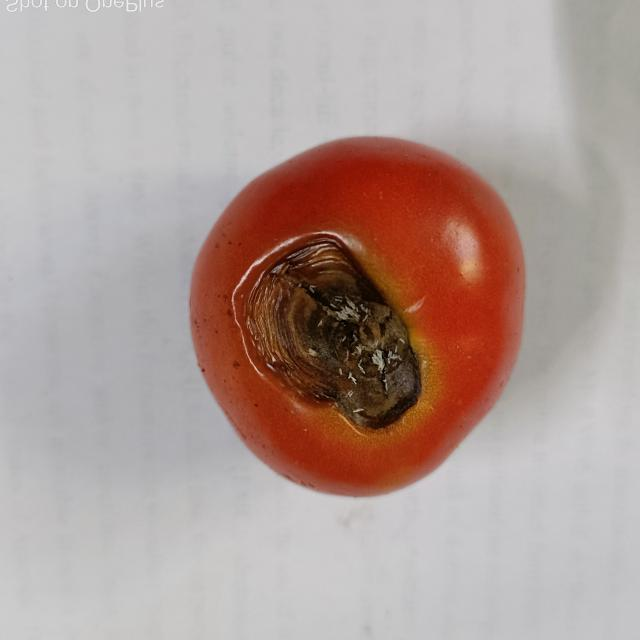Anthrocnose: (225, 228, 426, 438)
